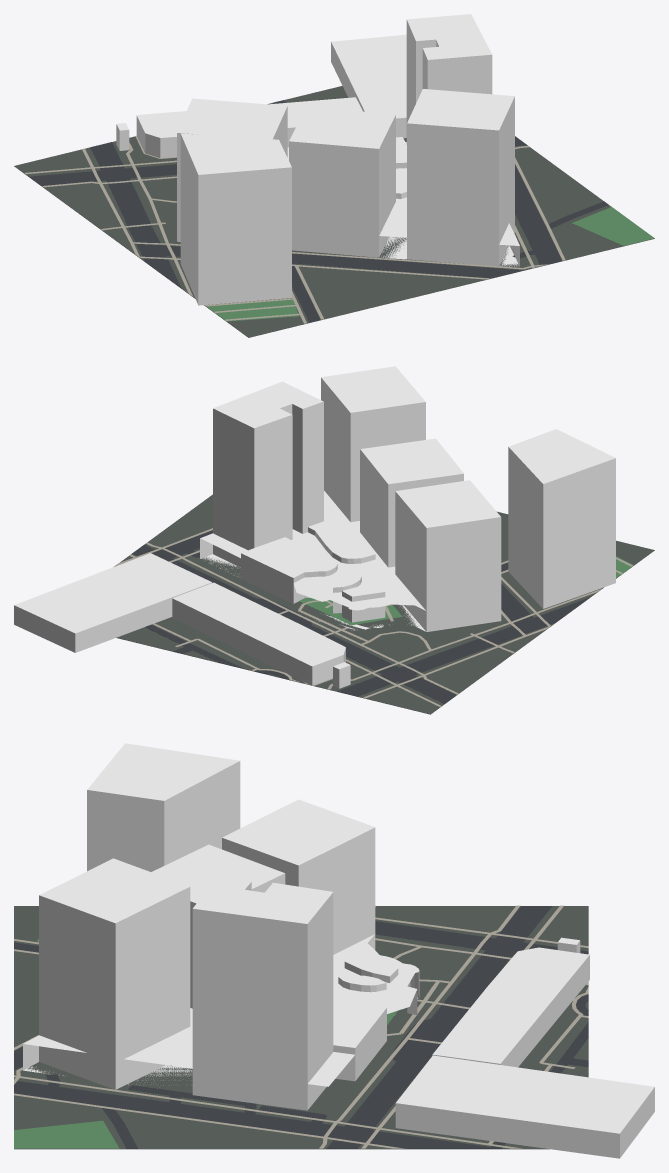
File: tile_006_009.glb
3 views of the same model, one above another, from view 1: azimuth 30°, elevation 25°; view 2: azimuth 150°, elevation 25°; view 3: azimuth 270°, elevation 25° (orthographic). The views are drawn at different scales.
Visible parts, largest first — view 1: tile_006_009_buildings_detailed_m23:uptown_mall, tile_006_009_ground, tile_006_009_buildings_residential, tile_006_009_roads, tile_006_009_buildings_neutral, tile_006_009_paths, tile_006_009_buildings_retail, tile_006_009_open_spaces; view 2: tile_006_009_buildings_detailed_m23:uptown_mall, tile_006_009_buildings_residential, tile_006_009_ground, tile_006_009_buildings_neutral, tile_006_009_buildings_retail, tile_006_009_roads, tile_006_009_paths, tile_006_009_open_spaces; view 3: tile_006_009_buildings_detailed_m23:uptown_mall, tile_006_009_ground, tile_006_009_buildings_neutral, tile_006_009_roads, tile_006_009_buildings_residential, tile_006_009_buildings_retail, tile_006_009_paths, tile_006_009_open_spaces.
Boxes of the visible parts, x1,y1,x2,y2 form: tile_006_009_buildings_detailed_m23:uptown_mall: [177, 14, 519, 266]; tile_006_009_ground: [14, 86, 654, 337]; tile_006_009_buildings_residential: [180, 133, 291, 305]; tile_006_009_roads: [29, 100, 608, 322]; tile_006_009_buildings_neutral: [116, 34, 406, 150]; tile_006_009_paths: [24, 135, 565, 323]; tile_006_009_buildings_retail: [136, 97, 362, 158]; tile_006_009_open_spaces: [206, 207, 654, 321]; tile_006_009_buildings_detailed_m23:uptown_mall: [200, 366, 501, 631]; tile_006_009_buildings_residential: [508, 429, 615, 608]; tile_006_009_ground: [114, 494, 654, 714]; tile_006_009_buildings_neutral: [14, 553, 350, 688]; tile_006_009_buildings_retail: [172, 582, 345, 685]; tile_006_009_roads: [132, 530, 590, 703]; tile_006_009_paths: [114, 528, 632, 706]; tile_006_009_open_spaces: [299, 556, 633, 625]; tile_006_009_buildings_detailed_m23:uptown_mall: [23, 799, 419, 1110]; tile_006_009_ground: [14, 906, 588, 1149]; tile_006_009_buildings_neutral: [395, 937, 654, 1158]; tile_006_009_roads: [14, 906, 588, 1148]; tile_006_009_buildings_residential: [87, 743, 240, 871]; tile_006_009_buildings_retail: [432, 947, 589, 1067]; tile_006_009_paths: [14, 905, 588, 1148]; tile_006_009_open_spaces: [14, 939, 397, 1148].
Size of the model in its own units: 263 by 89.76 by 279.
